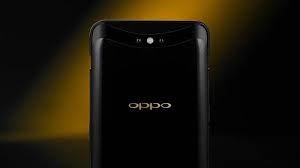oppo: (88, 13, 210, 168)
